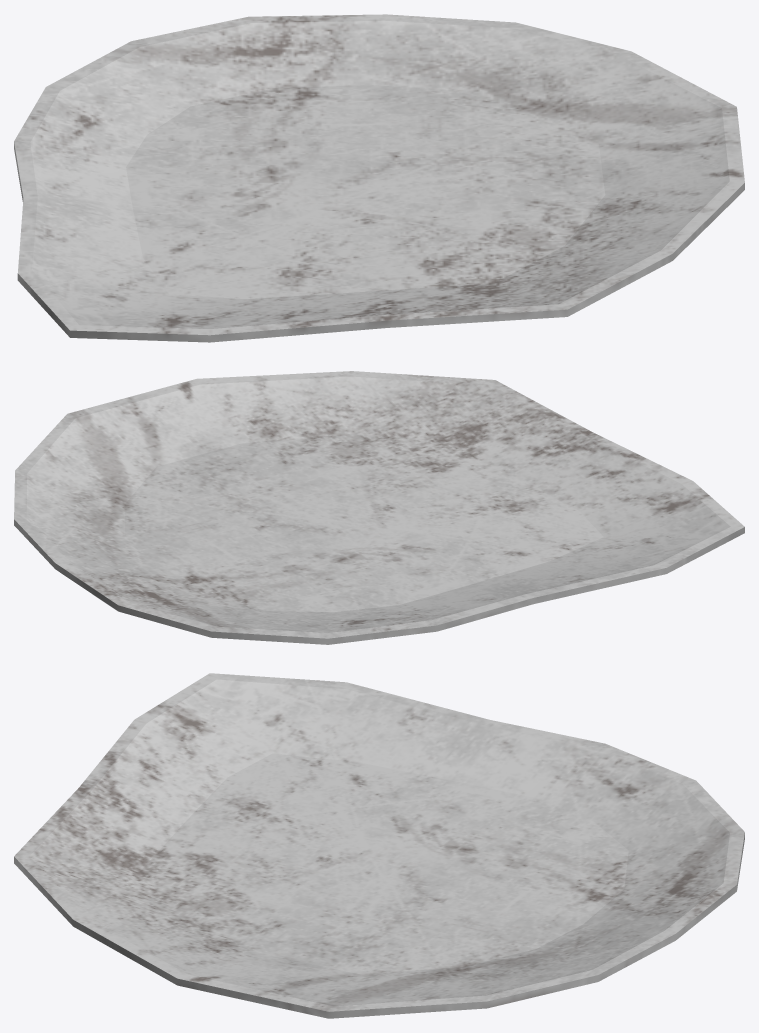
Rendered from plate_1.fbx.
3 views of the same model, one above another, from view 1: azimuth 30°, elevation 25°; view 2: azimuth 150°, elevation 25°; view 3: azimuth 270°, elevation 25° (orthographic). The views are drawn at different scales.
Visible parts, largest first — view 1: Plate_low.002; view 2: Plate_low.002; view 3: Plate_low.002.
Part boxes in pixels (box(x1,y1,x2,y2)): Plate_low.002: box(14, 14, 744, 342); Plate_low.002: box(14, 371, 744, 644); Plate_low.002: box(14, 673, 744, 1018).
Bounding box in the file's own units: 30.87 × 1.17 × 28.16.
